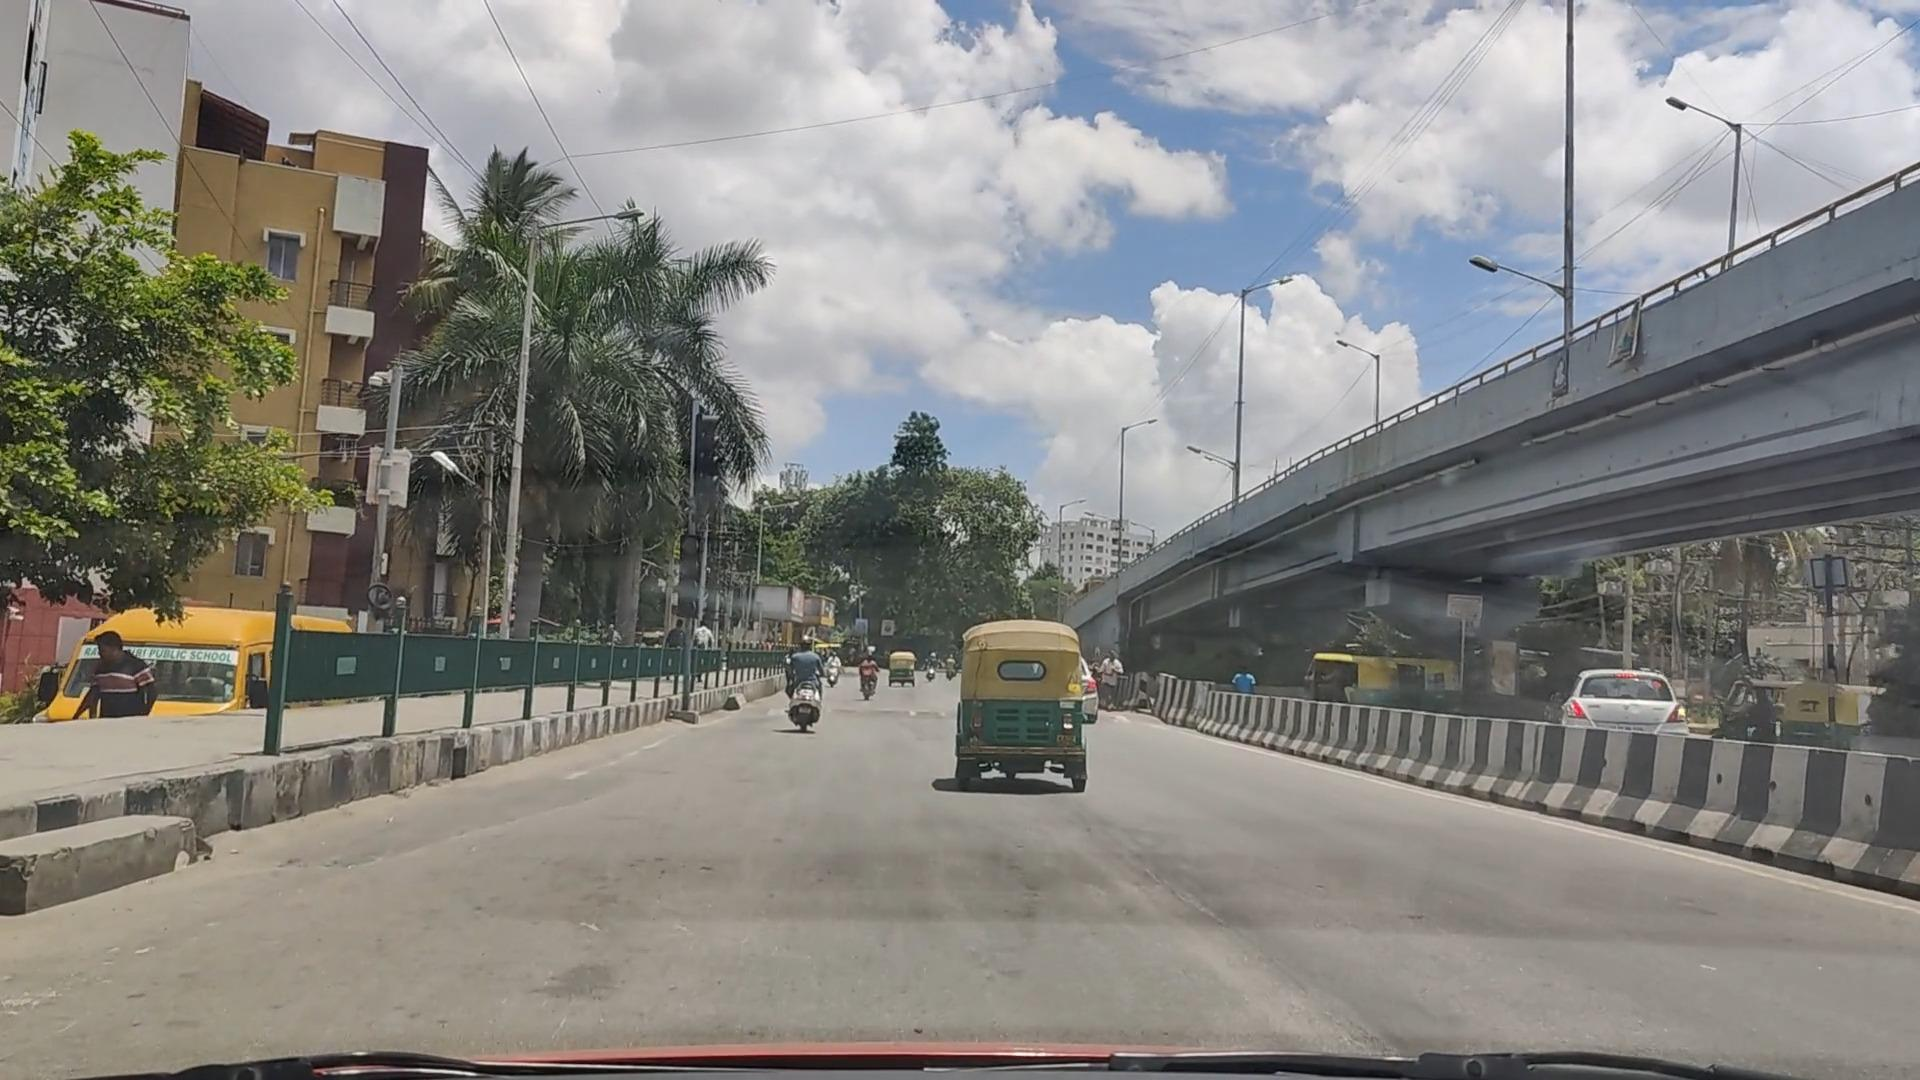LMV: (948, 617, 1092, 796)
